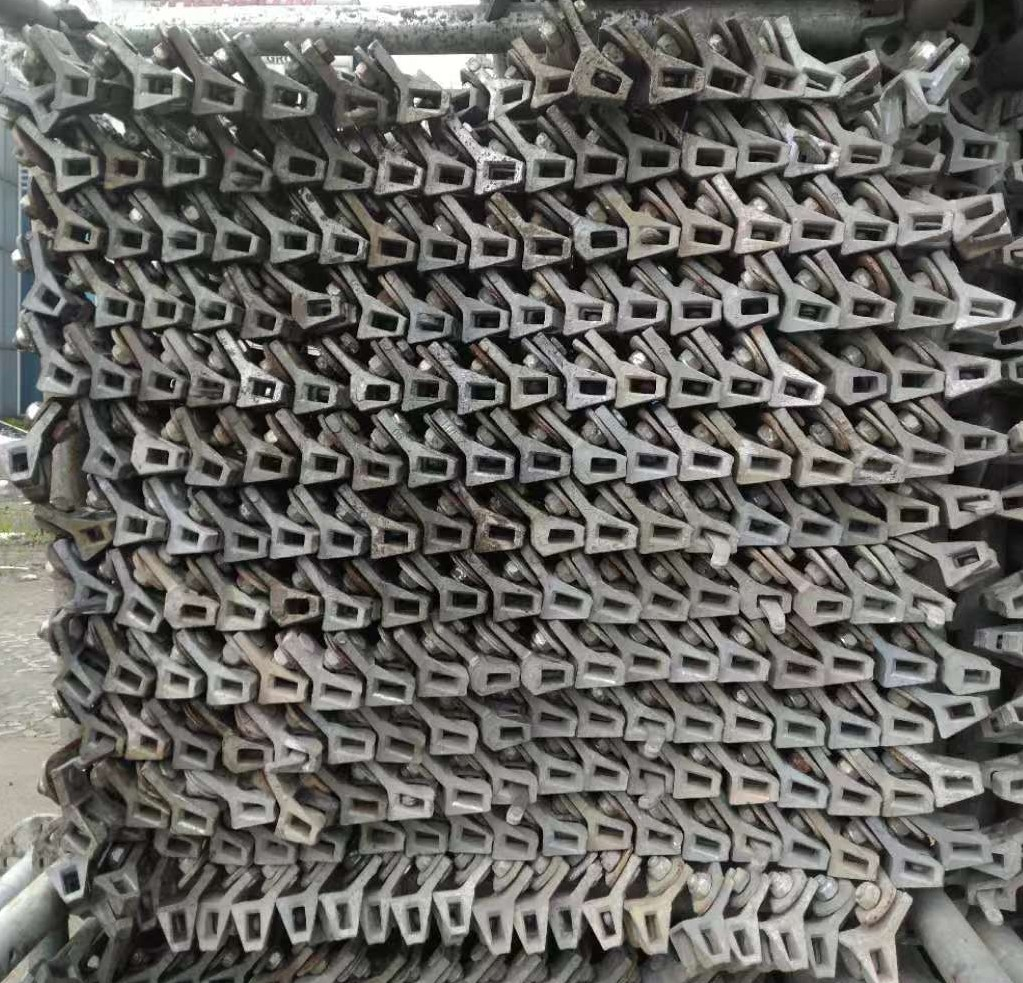sigma_steel: (641, 62, 706, 106), (779, 289, 841, 335), (570, 61, 633, 106), (844, 935, 902, 983), (951, 192, 1007, 241), (947, 131, 1007, 174), (899, 293, 959, 334), (394, 80, 451, 123), (932, 697, 990, 739), (682, 134, 736, 179), (837, 293, 897, 333), (942, 358, 1002, 398), (474, 899, 516, 955), (940, 659, 1000, 697), (901, 206, 955, 248), (936, 539, 984, 586), (680, 921, 729, 967), (192, 75, 243, 119), (956, 293, 1015, 331), (627, 140, 679, 183), (752, 63, 805, 105), (473, 154, 526, 196), (836, 139, 890, 180), (735, 216, 791, 255), (129, 70, 182, 111), (614, 297, 671, 335), (573, 149, 627, 189), (262, 81, 317, 120), (769, 919, 810, 971), (951, 427, 1007, 465), (529, 521, 585, 559), (716, 647, 769, 687), (704, 61, 753, 104), (887, 850, 941, 889), (672, 296, 723, 337), (378, 586, 429, 627), (844, 217, 899, 255), (272, 151, 324, 191), (372, 158, 425, 197), (520, 230, 573, 269), (543, 898, 582, 951), (733, 449, 792, 484), (52, 152, 100, 195), (824, 782, 881, 818), (736, 138, 786, 179), (791, 216, 846, 253), (723, 291, 778, 328), (164, 592, 216, 631), (774, 712, 826, 751), (20, 276, 67, 319), (227, 904, 269, 952), (273, 895, 315, 943), (679, 221, 732, 259), (562, 373, 615, 411), (827, 714, 880, 752), (113, 594, 163, 634), (630, 904, 670, 954), (891, 143, 945, 180), (573, 224, 627, 261), (208, 228, 259, 267), (350, 374, 401, 413), (793, 454, 853, 487), (934, 765, 980, 808), (938, 833, 990, 871), (889, 497, 939, 536), (214, 593, 264, 632), (891, 367, 945, 403), (882, 652, 936, 688), (466, 233, 517, 271), (44, 859, 85, 906), (883, 782, 935, 819), (514, 898, 548, 954), (156, 901, 194, 951), (52, 665, 95, 709), (773, 373, 827, 408), (671, 374, 722, 411), (441, 781, 492, 818), (267, 226, 315, 265), (801, 589, 853, 625), (507, 371, 556, 409), (543, 586, 592, 624), (736, 513, 789, 548), (423, 160, 473, 197), (317, 228, 367, 265), (832, 371, 888, 404), (431, 891, 472, 936), (527, 153, 573, 193), (595, 586, 641, 626), (902, 442, 953, 478), (393, 895, 429, 946), (161, 151, 209, 189), (366, 234, 414, 272), (367, 523, 415, 561), (640, 519, 692, 554), (770, 654, 823, 688), (418, 665, 468, 701), (460, 305, 507, 343), (454, 377, 501, 415), (585, 519, 636, 554), (270, 590, 318, 627), (492, 586, 540, 623), (855, 591, 903, 628), (519, 448, 571, 482), (473, 518, 522, 554), (259, 671, 308, 707), (234, 374, 284, 409), (616, 374, 666, 409), (125, 443, 178, 476), (880, 712, 933, 745), (159, 226, 205, 264), (321, 894, 359, 940), (437, 583, 484, 620), (787, 517, 843, 548), (240, 448, 291, 482), (822, 650, 873, 684), (632, 823, 683, 857), (679, 447, 733, 479), (99, 662, 147, 698), (726, 773, 780, 805), (488, 78, 530, 119), (422, 519, 471, 554), (51, 72, 96, 110), (679, 826, 729, 860), (829, 846, 879, 880), (480, 717, 531, 750), (673, 711, 724, 744), (325, 159, 373, 194), (313, 678, 361, 713), (167, 737, 215, 772), (780, 838, 828, 873), (801, 66, 845, 104), (842, 47, 880, 91), (35, 359, 79, 397), (563, 301, 612, 335), (135, 368, 184, 402), (293, 378, 338, 415), (73, 518, 110, 563), (223, 525, 268, 562), (354, 308, 406, 340), (576, 452, 628, 484), (806, 924, 838, 976), (693, 582, 739, 618), (669, 648, 715, 684), (723, 373, 773, 406), (297, 451, 347, 484), (227, 796, 277, 829), (327, 730, 374, 765), (427, 724, 475, 758), (78, 442, 123, 478), (378, 729, 423, 765), (407, 454, 456, 487), (521, 662, 573, 693), (419, 235, 465, 270), (351, 458, 397, 493), (644, 586, 690, 621), (291, 295, 341, 327), (218, 742, 273, 771), (323, 595, 366, 632), (629, 451, 677, 484), (366, 673, 414, 706), (725, 711, 773, 744), (781, 777, 829, 810), (625, 649, 670, 684), (855, 453, 904, 485), (52, 220, 98, 254), (182, 454, 228, 488), (578, 655, 624, 689), (276, 807, 315, 847), (510, 301, 552, 338), (404, 374, 446, 411), (466, 452, 516, 483), (359, 894, 390, 944), (531, 70, 574, 106), (103, 153, 146, 189), (1, 441, 37, 484), (165, 522, 208, 558), (85, 369, 133, 401), (205, 673, 250, 707), (195, 903, 226, 952), (320, 526, 363, 561), (472, 663, 519, 695), (114, 514, 158, 548), (103, 227, 148, 260), (93, 292, 133, 329), (273, 523, 314, 559), (239, 307, 285, 339), (582, 761, 628, 793), (153, 668, 196, 702), (841, 514, 888, 545), (535, 763, 582, 794), (126, 728, 166, 764), (167, 806, 215, 836), (733, 919, 763, 967), (491, 830, 537, 861), (576, 709, 623, 739), (95, 869, 139, 901), (676, 768, 721, 799), (540, 825, 585, 856), (588, 821, 633, 852), (340, 795, 387, 824), (192, 298, 233, 331), (205, 838, 250, 868), (358, 823, 403, 853), (125, 801, 171, 830), (532, 711, 577, 740), (144, 296, 184, 328), (450, 826, 493, 855), (153, 834, 200, 860), (252, 840, 296, 867), (406, 828, 446, 855), (448, 85, 477, 120), (300, 841, 341, 865)
sigma_steel_blocked: (214, 156, 273, 197), (334, 87, 387, 132), (944, 486, 1001, 527), (787, 136, 838, 181), (625, 220, 681, 258), (583, 899, 623, 952), (902, 70, 949, 115), (738, 581, 793, 619), (907, 588, 956, 628), (691, 519, 739, 557), (733, 824, 781, 861), (386, 785, 435, 821), (77, 723, 122, 762), (70, 579, 117, 616), (408, 309, 452, 347), (272, 738, 318, 774), (966, 880, 1016, 913), (489, 773, 537, 806), (187, 374, 231, 409), (628, 710, 673, 740), (630, 766, 673, 797)
